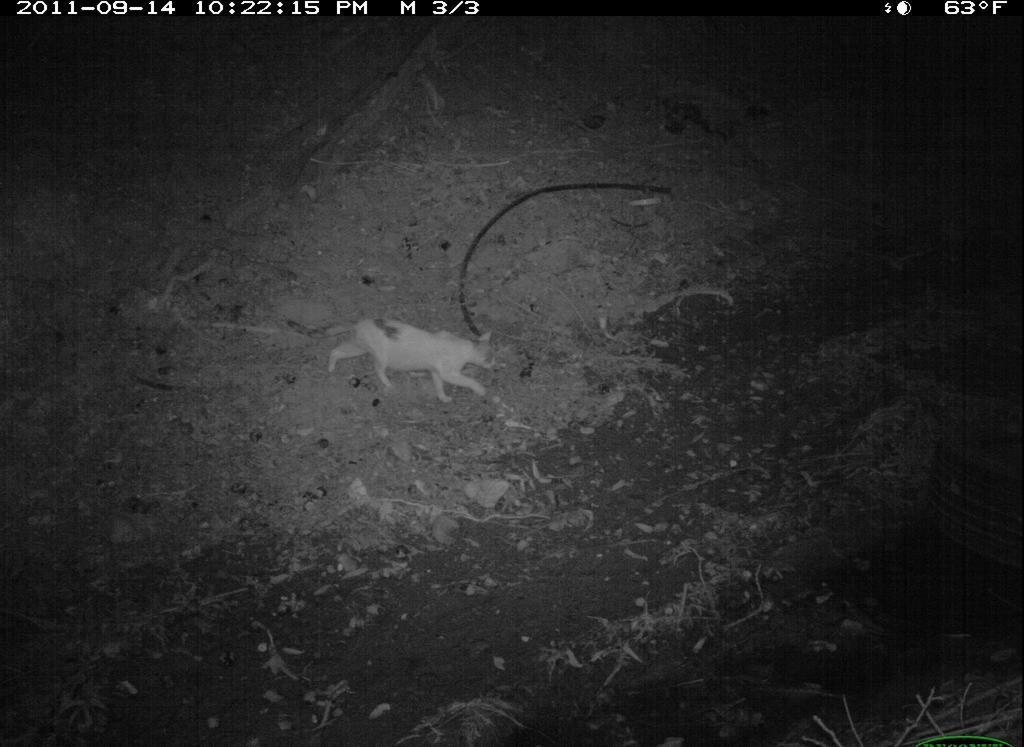cat: (277, 310, 515, 412)
